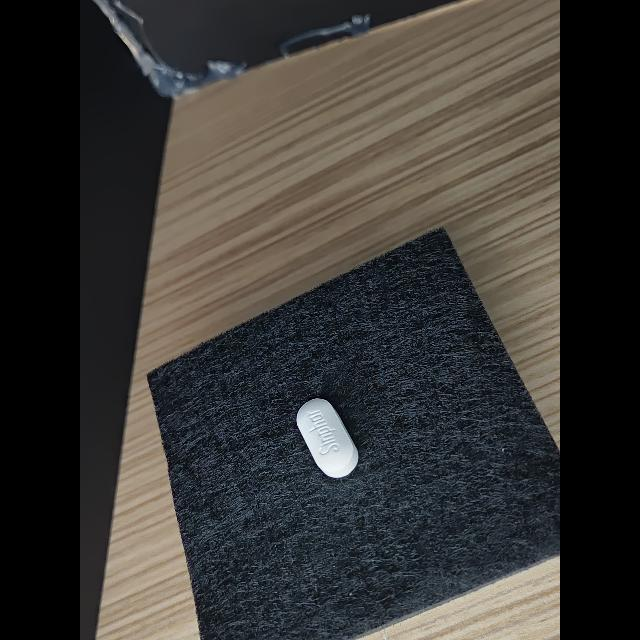Intact Pill: (296, 398, 358, 478)
